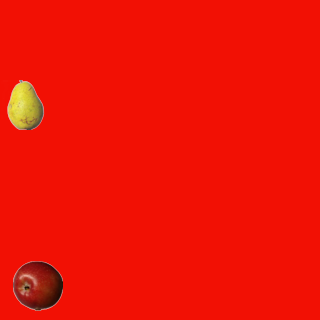Apple Braeburn: (12, 260, 62, 310)
Pear Monster: (0, 79, 50, 129)
